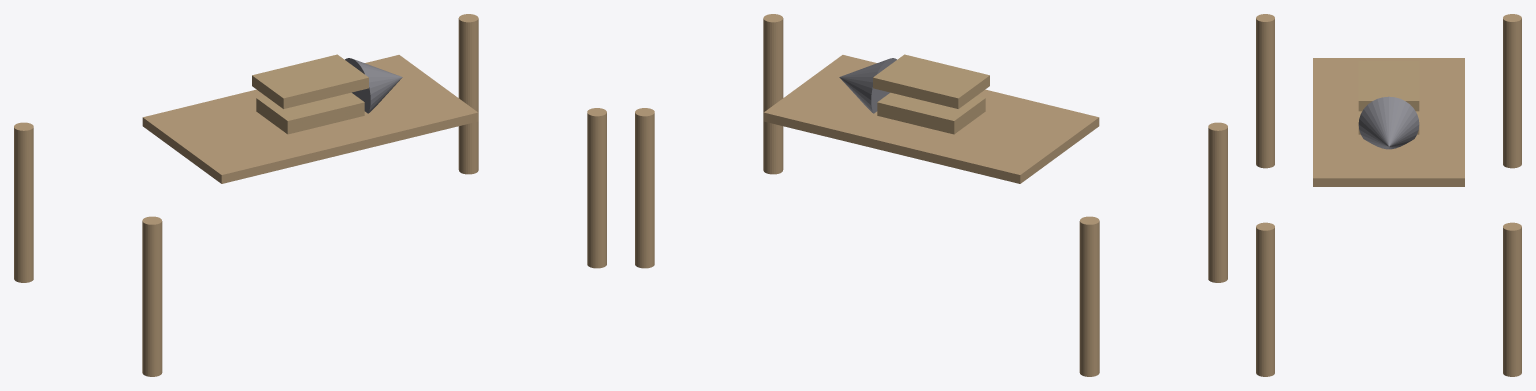
File: bellows_pump.glb
3 views of the same model, side by side, from view 1: azimuth 30°, elevation 25°; view 2: azimuth 150°, elevation 25°; view 3: azimuth 270°, elevation 25° (orthographic). The views are drawn at different scales.
Parts seen in each view (by area): view 1: bench_top, bellows_pump, bench_leg_-1.3_-0.65, bench_leg_1.3_-0.65, bench_leg_-1.3_0.65, bench_leg_1.3_0.65, bellows-base, bellows-nozzle; view 2: bench_top, bellows_pump, bench_leg_-1.3_0.65, bench_leg_1.3_0.65, bench_leg_-1.3_-0.65, bench_leg_1.3_-0.65, bellows-base, bellows-nozzle; view 3: bench_top, bench_leg_1.3_0.65, bench_leg_1.3_-0.65, bench_leg_-1.3_0.65, bench_leg_-1.3_-0.65, bellows_pump, bellows-nozzle.
Boxes of the visible parts, left/top/right/bottom form: bench_top: left=142, top=55, right=478, bottom=183; bellows_pump: left=252, top=54, right=368, bottom=108; bench_leg_-1.3_-0.65: left=142, top=216, right=162, bottom=376; bench_leg_1.3_-0.65: left=587, top=108, right=606, bottom=268; bench_leg_-1.3_0.65: left=14, top=122, right=33, bottom=282; bench_leg_1.3_0.65: left=458, top=14, right=478, bottom=174; bellows-base: left=256, top=92, right=364, bottom=134; bellows-nozzle: left=345, top=58, right=402, bottom=113; bench_top: left=763, top=55, right=1099, bottom=183; bellows_pump: left=873, top=54, right=989, bottom=108; bench_leg_-1.3_0.65: left=1079, top=216, right=1099, bottom=376; bench_leg_1.3_0.65: left=635, top=108, right=654, bottom=268; bench_leg_-1.3_-0.65: left=1208, top=122, right=1227, bottom=282; bench_leg_1.3_-0.65: left=763, top=14, right=783, bottom=174; bellows-base: left=877, top=92, right=985, bottom=134; bellows-nozzle: left=839, top=58, right=896, bottom=113; bench_top: left=1313, top=58, right=1464, bottom=186; bench_leg_1.3_0.65: left=1503, top=222, right=1521, bottom=376; bench_leg_1.3_-0.65: left=1256, top=222, right=1274, bottom=376; bench_leg_-1.3_0.65: left=1503, top=14, right=1521, bottom=168; bench_leg_-1.3_-0.65: left=1256, top=14, right=1274, bottom=168; bellows_pump: left=1358, top=61, right=1419, bottom=111; bellows-nozzle: left=1358, top=96, right=1419, bottom=149.
Bounding box in the file's own units: 2.7 × 1.12 × 1.4.
